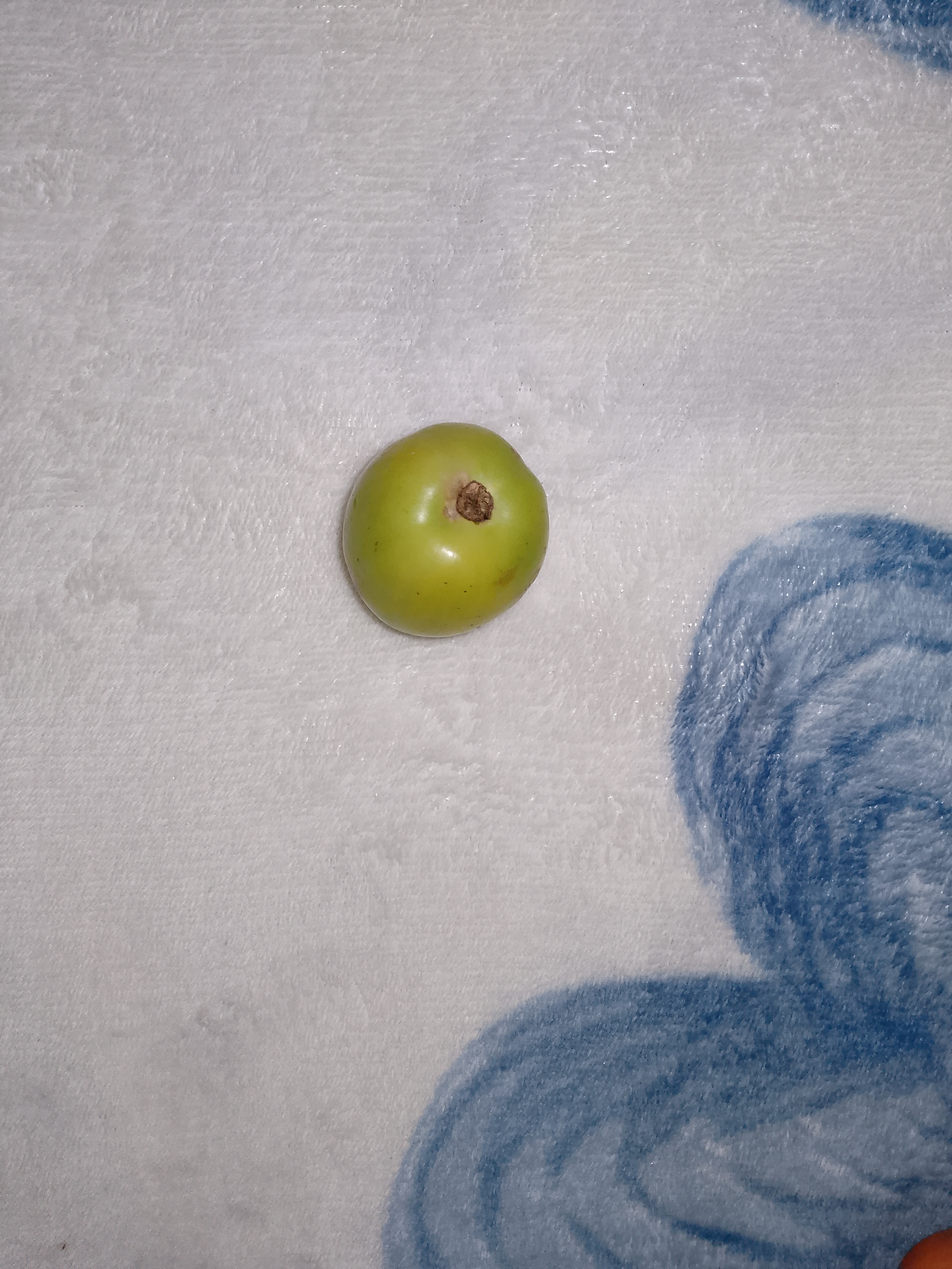Unripe: (273, 394, 587, 698)
